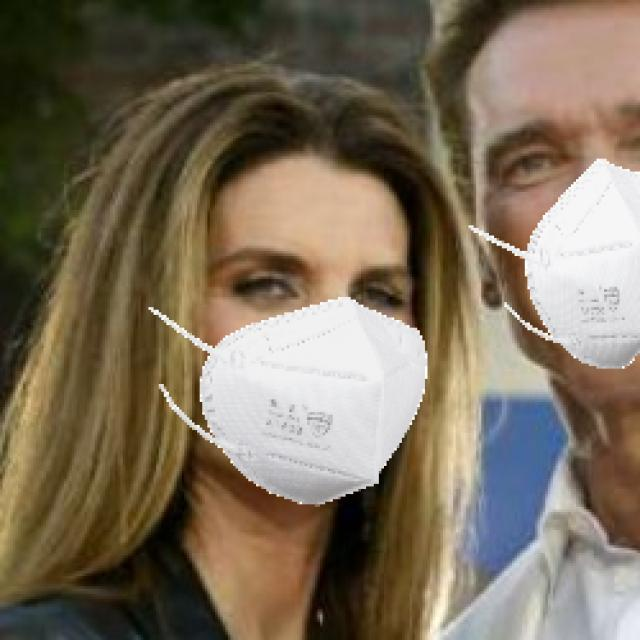mask: (133, 269, 423, 550), (456, 186, 640, 391)
